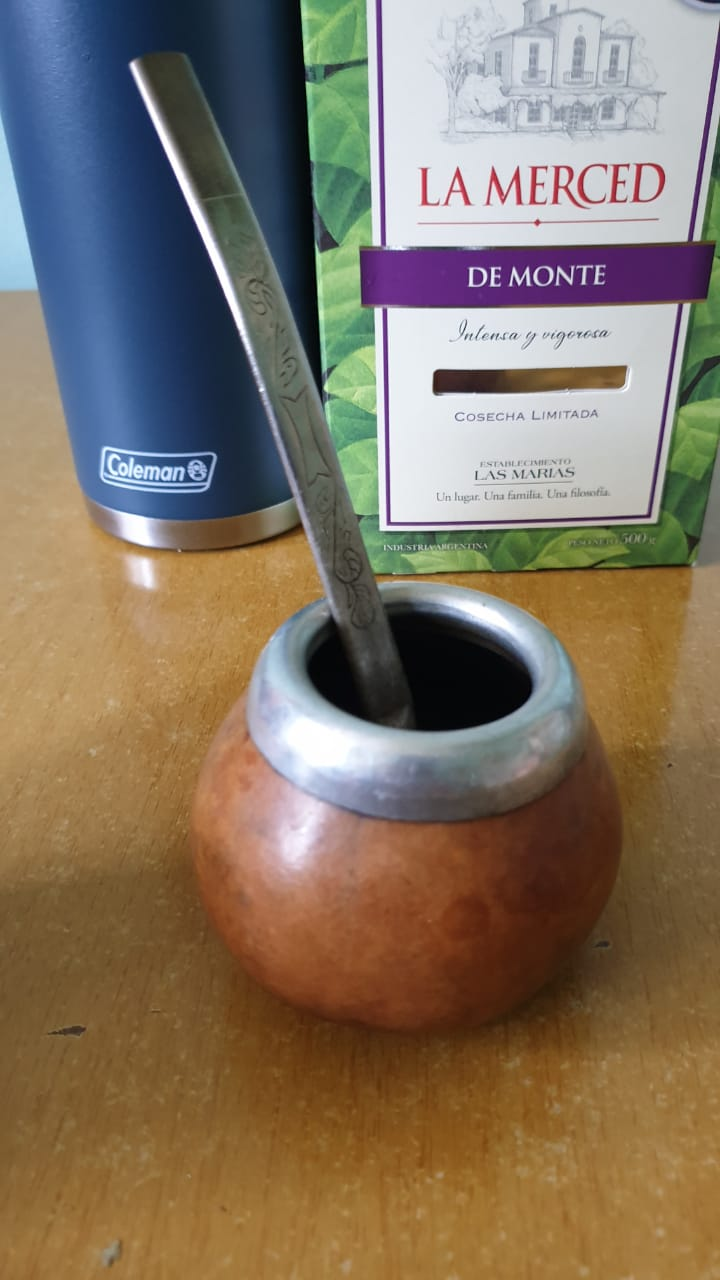calabaza: (176, 584, 633, 1049)
mate: (177, 587, 647, 1049)
